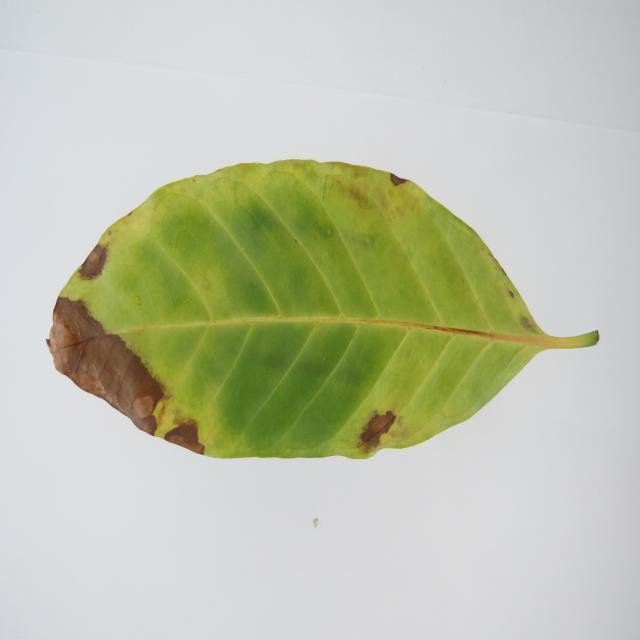DeficienciaNutricional-Potasio: (48, 160, 599, 458)
